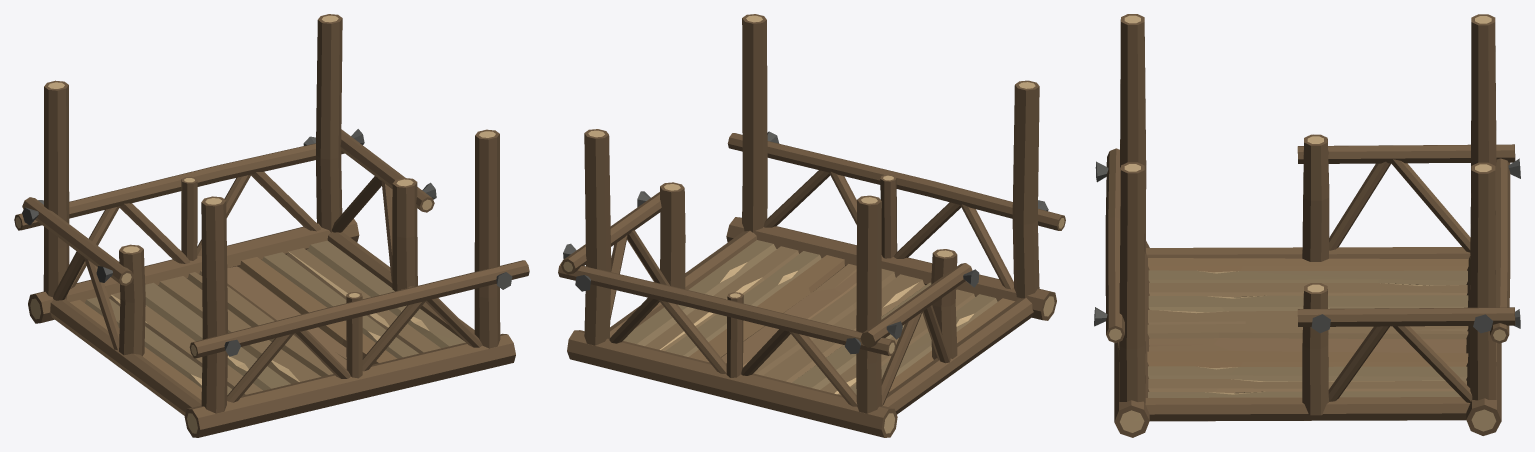
The model's file is rpgpp_ag_gate_balcony_03_platform_01b.fbx.
3 views of the same model, side by side, from view 1: azimuth 30°, elevation 25°; view 2: azimuth 150°, elevation 25°; view 3: azimuth 270°, elevation 25° (orthographic). The views are drawn at different scales.
Visible parts, largest first — view 1: rpgpp_ag_gate_balcony_03_platform_01b; view 2: rpgpp_ag_gate_balcony_03_platform_01b; view 3: rpgpp_ag_gate_balcony_03_platform_01b.
Part boxes in pixels (<box>): rpgpp_ag_gate_balcony_03_platform_01b: <box>14,14,529,437</box>; rpgpp_ag_gate_balcony_03_platform_01b: <box>558,14,1065,437</box>; rpgpp_ag_gate_balcony_03_platform_01b: <box>1094,14,1520,437</box>.
Size of the model in its own units: 4.84 by 3.22 by 4.81.
